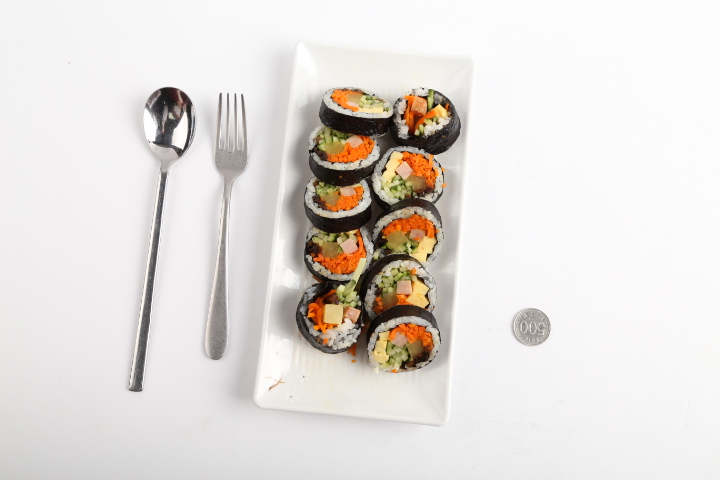dish: (254, 41, 474, 425)
ref_coin: (513, 307, 551, 346)
ref_fork: (215, 92, 247, 186)
ref_spoon: (143, 86, 196, 172)
김밥: (295, 85, 462, 373)
